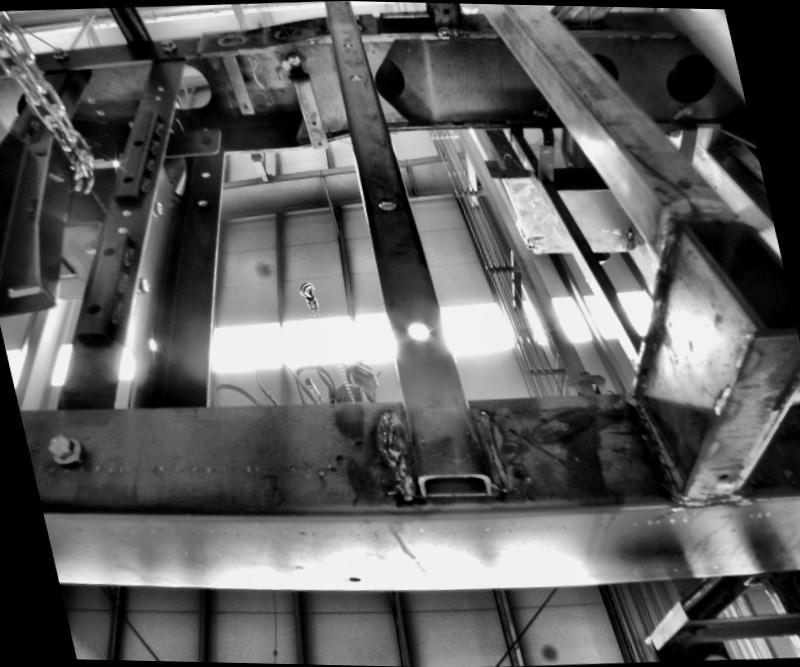bolt: (36, 427, 77, 460), (145, 196, 168, 218), (126, 270, 148, 291), (45, 44, 70, 61), (156, 35, 180, 51)
bracket: (284, 51, 324, 155), (162, 115, 224, 152), (222, 44, 254, 112), (524, 132, 566, 180)
hole: (396, 308, 430, 337), (373, 193, 401, 211), (672, 168, 694, 181), (138, 329, 154, 345), (716, 467, 731, 480), (346, 70, 362, 78), (192, 130, 206, 139), (114, 223, 128, 231), (120, 206, 131, 215), (346, 574, 360, 580), (152, 92, 162, 100), (540, 146, 551, 153), (195, 196, 205, 203), (309, 119, 317, 126), (441, 3, 449, 10), (200, 169, 209, 175), (240, 101, 248, 107), (340, 38, 349, 43), (314, 139, 322, 144), (156, 83, 162, 89)
welding: (467, 397, 516, 488), (378, 399, 408, 503)
